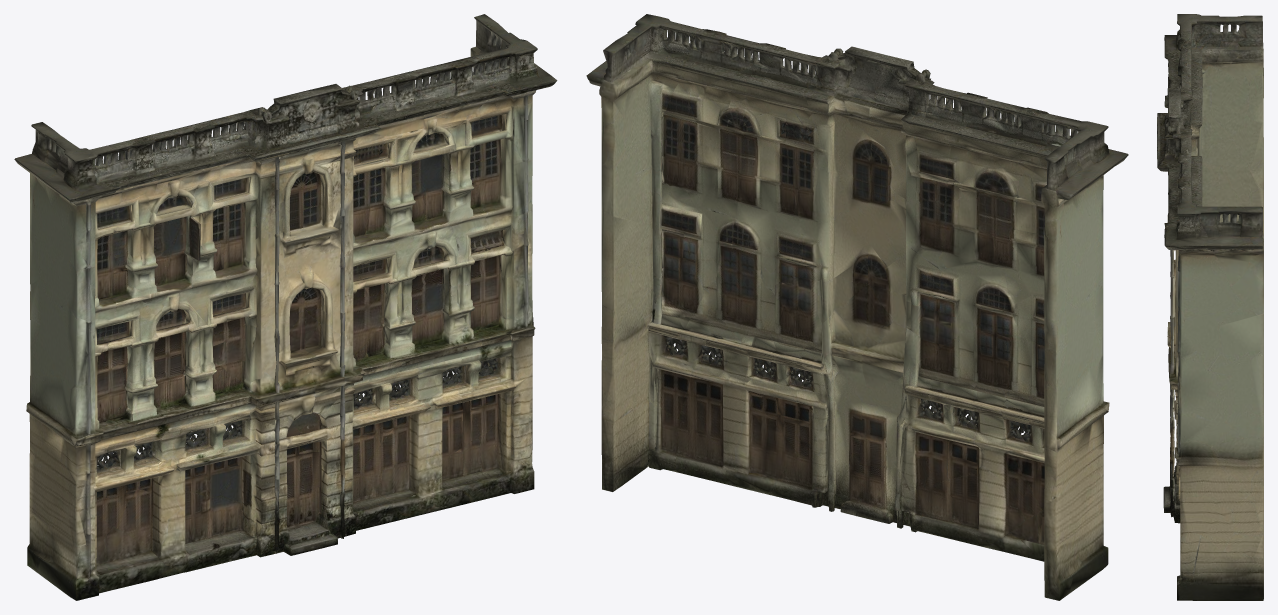
File: bld_shoprow2.glb
3 views of the same model, side by side, from view 1: azimuth 30°, elevation 25°; view 2: azimuth 150°, elevation 25°; view 3: azimuth 270°, elevation 25° (orthographic). The views are drawn at different scales.
Visible parts, largest first — view 1: bld_shoprow2; view 2: bld_shoprow2; view 3: bld_shoprow2.
Boxes of the visible parts, bbox=[...] form: bld_shoprow2: bbox=[14, 14, 557, 600]; bld_shoprow2: bbox=[586, 14, 1128, 600]; bld_shoprow2: bbox=[1157, 14, 1263, 600].
Bounding box in the file's own units: 1.9 × 1.69 × 0.4081.
1 material, 1 textured.
